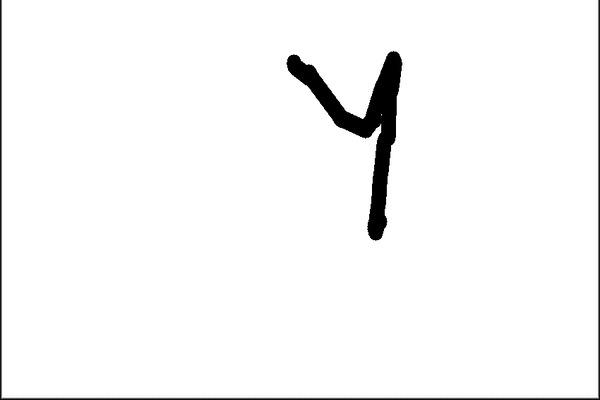Y: (275, 40, 418, 250)
